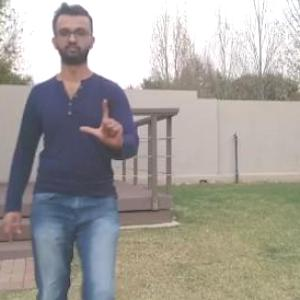land_hand: (77, 94, 129, 156)
